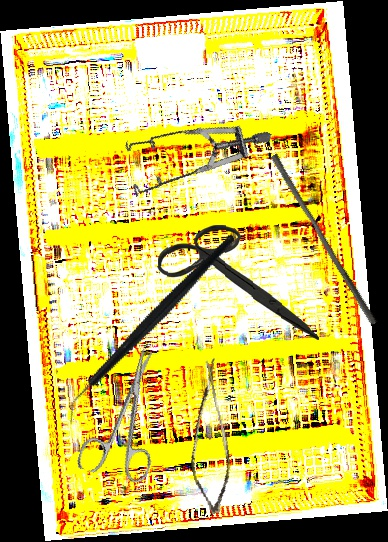Chopper: (25, 232, 276, 426)
Iris Scissors: (155, 223, 323, 340), (75, 340, 184, 489)
Micro Scissor: (168, 356, 249, 517)
Pusher: (264, 153, 384, 326)
Speculum: (110, 88, 272, 233)
